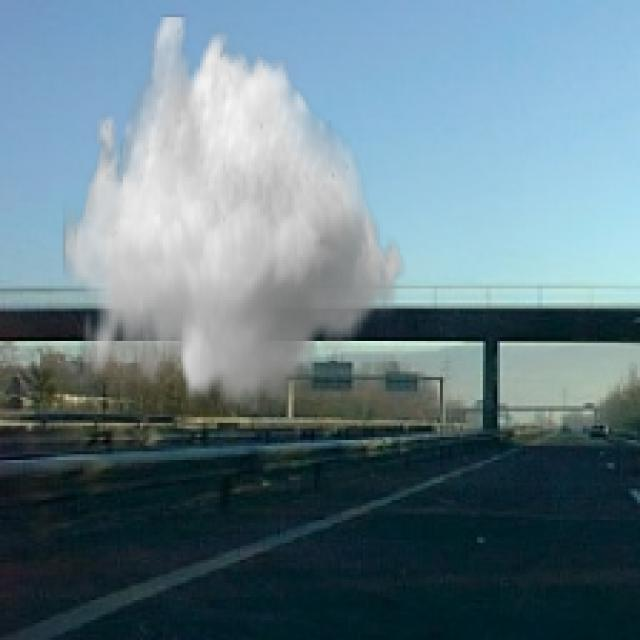smoke: (63, 14, 411, 414)
